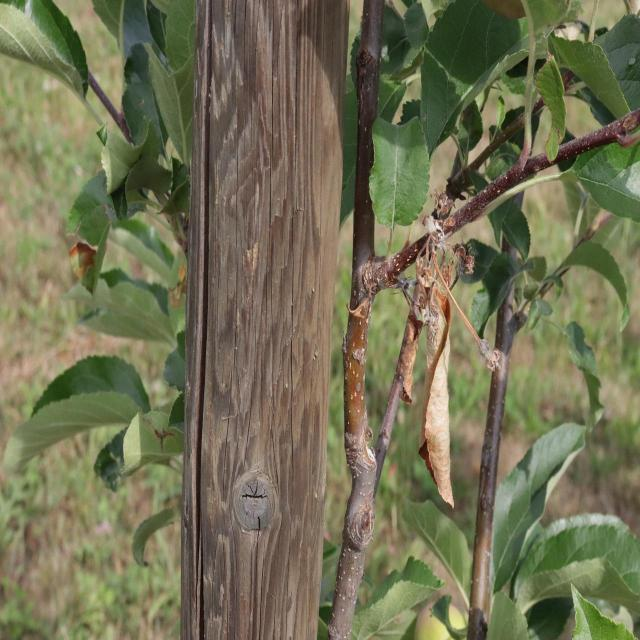-FireBlight-: (393, 215, 477, 513)
